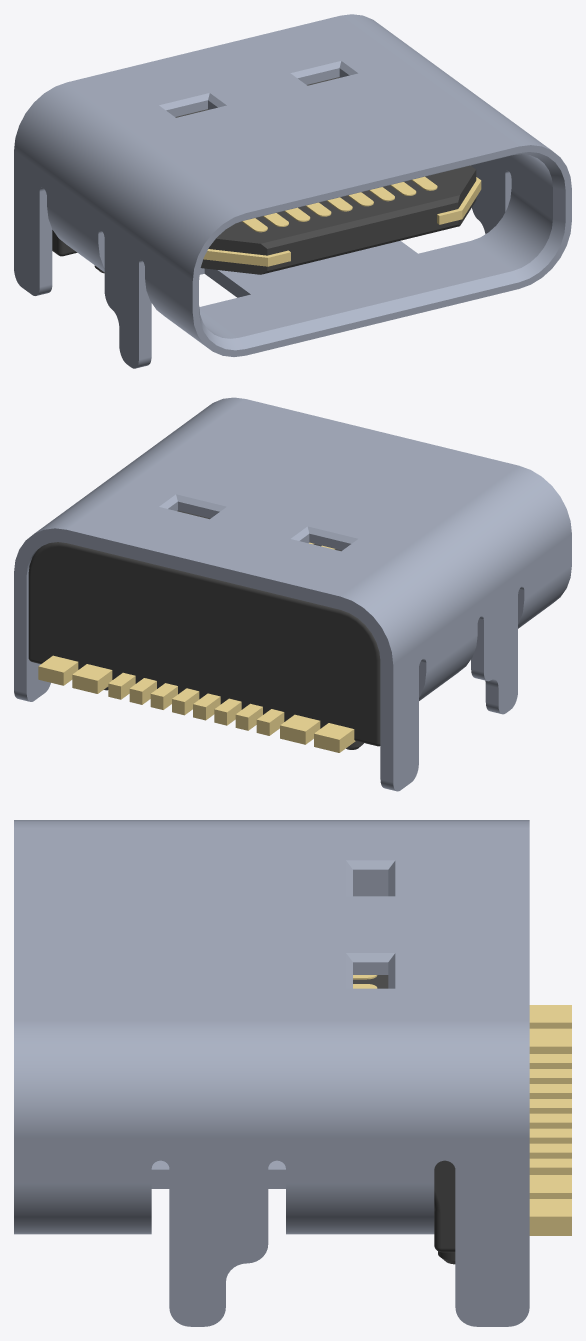
Rendered from TYPE-C_16PIN.glb.
3 renders of one model, top to bottom at view 1: azimuth 30°, elevation 25°; view 2: azimuth 150°, elevation 25°; view 3: azimuth 270°, elevation 25°, orthographic. The views are drawn at different scales.
Visible parts, largest first — view 1: TYPE-C_16PIN; view 2: TYPE-C_16PIN; view 3: TYPE-C_16PIN.
Boxes of the visible parts, bbox=[...] form: TYPE-C_16PIN: bbox=[14, 14, 571, 368]; TYPE-C_16PIN: bbox=[14, 397, 571, 791]; TYPE-C_16PIN: bbox=[14, 820, 571, 1326].
Size of the model in its own units: 0.00894 by 0.0042 by 0.0079.
